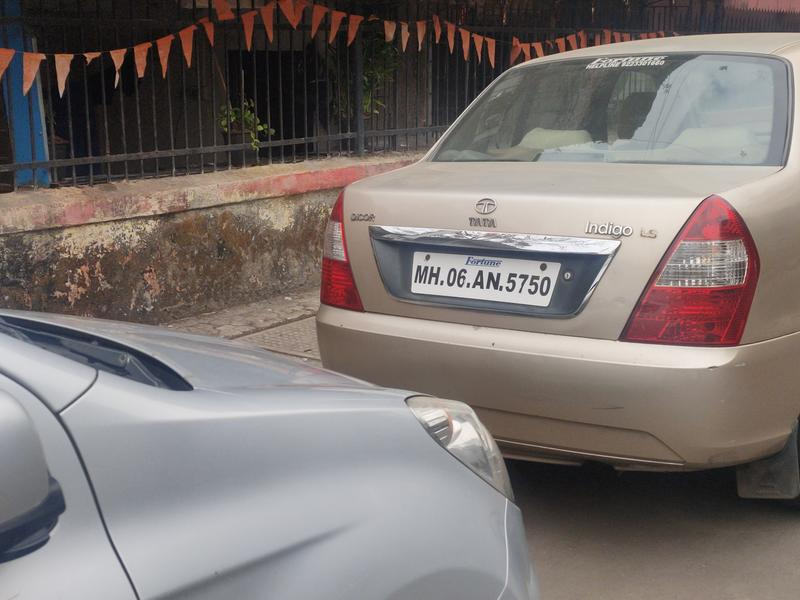license_plate: (403, 242, 562, 324)
